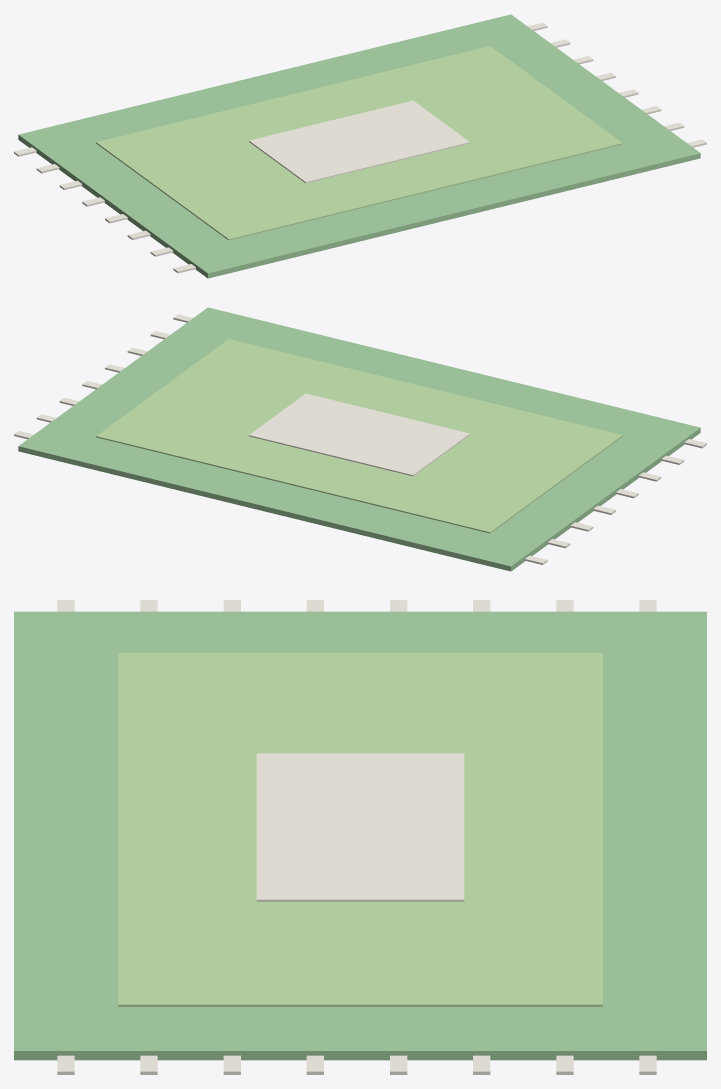
The model's file is prop_rug.glb.
3 renders of one model, top to bottom at view 1: azimuth 30°, elevation 25°; view 2: azimuth 150°, elevation 25°; view 3: azimuth 270°, elevation 25°, orthographic. The views are drawn at different scales.
Visible parts, largest first — view 1: prop_rug; view 2: prop_rug; view 3: prop_rug.
Part boxes in pixels (bbox=[...]): prop_rug: bbox=[14, 14, 706, 278]; prop_rug: bbox=[14, 307, 706, 571]; prop_rug: bbox=[14, 600, 706, 1074].
Size of the model in its own units: 3.22 by 0.045 by 2.
